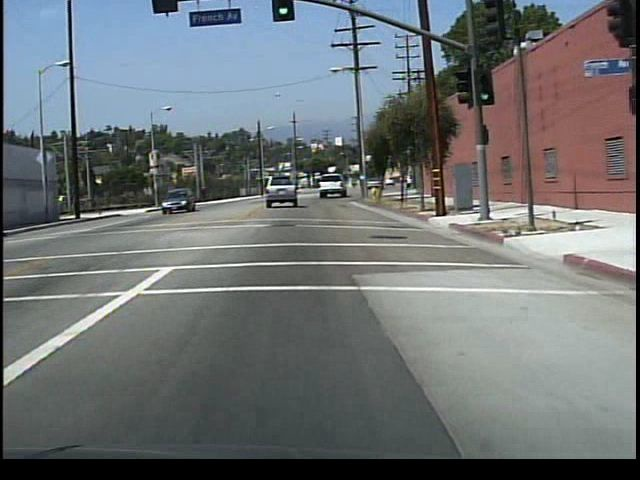person: (201, 182, 211, 206)
